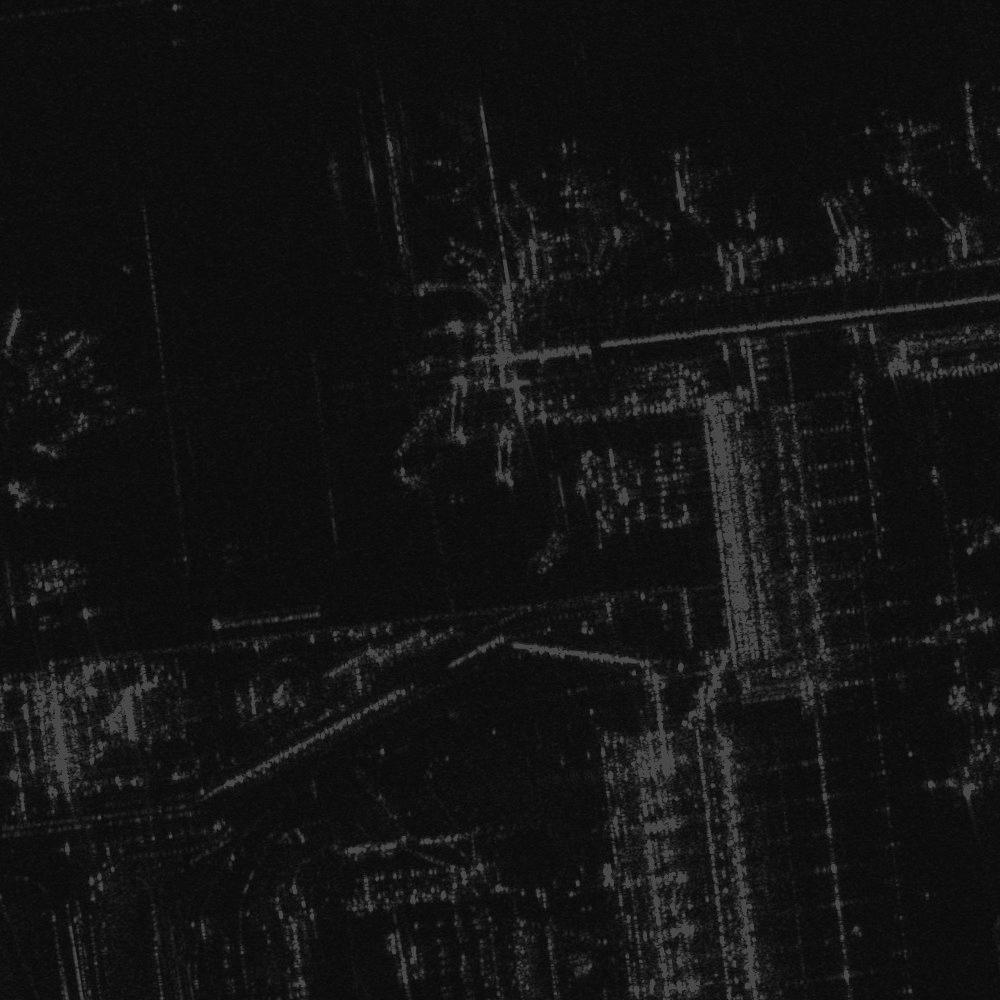A220: (540, 136, 611, 210), (646, 143, 718, 212), (879, 101, 941, 157)
